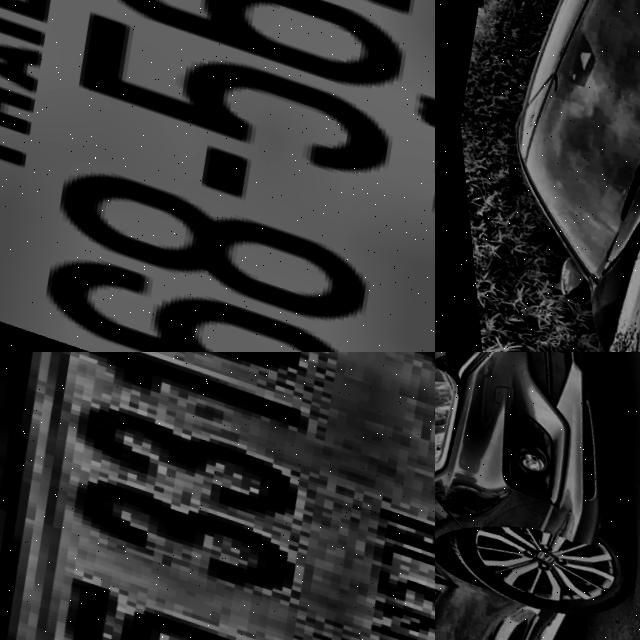license-plate: (0, 0, 435, 352), (0, 352, 435, 640)
